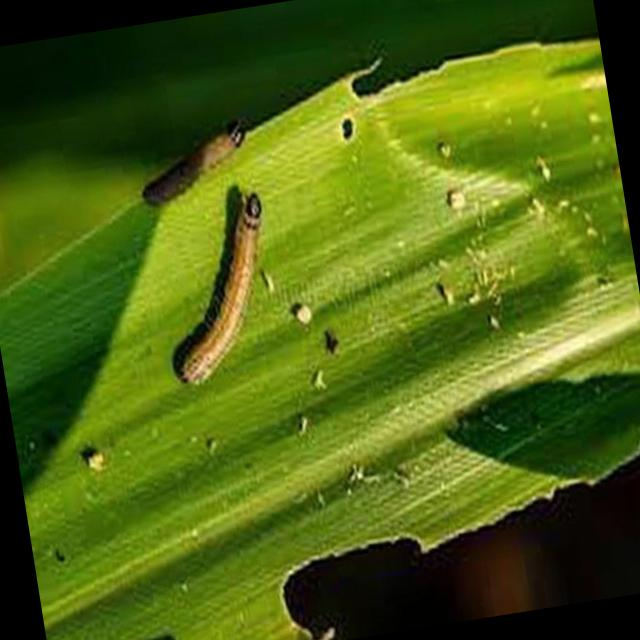pest: (153, 193, 306, 389), (127, 122, 264, 210)
